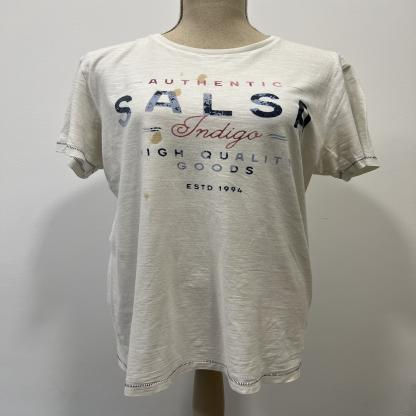stain: (147, 131, 165, 146), (194, 72, 211, 86), (166, 86, 183, 99), (142, 192, 151, 202), (178, 70, 186, 78)
